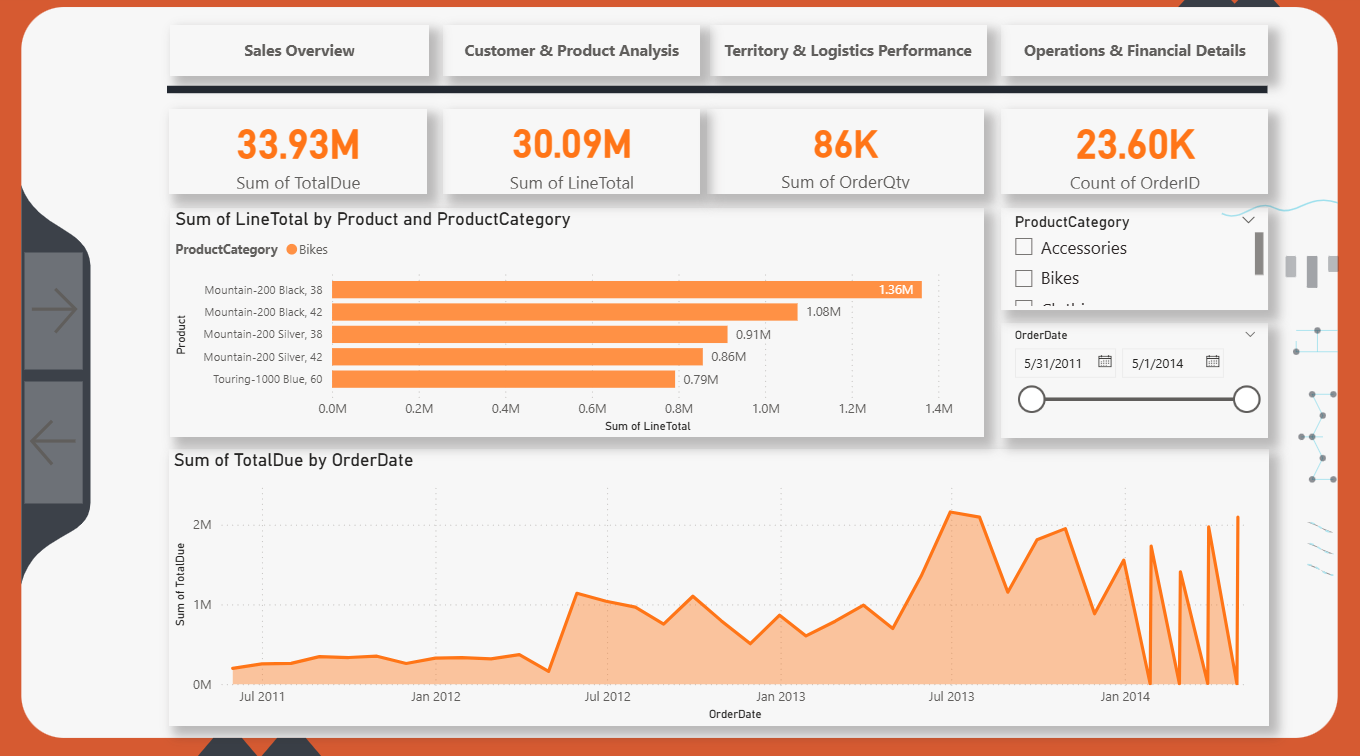

The dashboard page shown, as its layout file describes it:
{"tool":"powerbi","page":{"name":"Sales Overview","canvas":[1280,720],"ordinal":0},"visuals":[{"type":"card","fields":{"Values":["Sum(Fact Sales.LineTotal)"]},"box":[417.7,108.1,241.9,80.6],"z":0},{"type":"card","fields":{"Values":["Sum(Fact Sales.TotalDue)"]},"box":[159.7,108.1,243.5,80.6],"z":1000},{"type":"card","fields":{"Values":["Sum(Fact Sales.OrderQty)"]},"box":[666.1,108.1,259.7,80.6],"z":2000},{"type":"card","fields":{"Values":["CountNonNull(Fact Sales.OrderID)"]},"box":[941.9,108.1,251.6,80.6],"z":3000},{"type":"lineChart","fields":{"Category":["Fact Sales.OrderDate"],"Y":["Sum(Fact Sales.TotalDue)"]},"box":[159.7,429,1033.9,259.7],"z":4000},{"type":"clusteredBarChart","fields":{"Series":["DimProducts.ProductCategory"],"Category":["DimProducts.Product"],"Y":["Sum(Fact Sales.LineTotal)"]},"box":[161.3,201.6,764.5,216.1],"z":5000},{"type":"slicer","fields":{"Values":["Fact Sales.ProductCategory"]},"box":[941.9,201.6,251.6,96.8],"z":6000},{"type":"slicer","fields":{"Values":["Fact Sales.OrderDate"]},"box":[941.9,309.7,251.6,108.1],"z":7000},{"type":"actionButton","box":[161.3,29,243.5,48.4],"z":8000},{"type":"actionButton","box":[417.7,29,241.9,48.4],"z":9000},{"type":"actionButton","box":[667.7,29,259.7,48.4],"z":10000},{"type":"actionButton","box":[941.9,29,251.6,48.4],"z":11000},{"type":"actionButton","box":[24.2,243.5,54.8,109.7],"z":12000},{"type":"actionButton","box":[24.2,364.5,54.8,114.5],"z":13000}]}

Visuals, with their boxes on the page's 1280x720 design canvas (x1, y1, x2, y2). These are canvas units, not pixel positions in the 1360x756 screenshot, which may show the page scaled, cropped or inside an application window:
card - Sum(Fact Sales.LineTotal): [x1=418, y1=108, x2=660, y2=189]
card - Sum(Fact Sales.TotalDue): [x1=160, y1=108, x2=403, y2=189]
card - Sum(Fact Sales.OrderQty): [x1=666, y1=108, x2=926, y2=189]
card - CountNonNull(Fact Sales.OrderID): [x1=942, y1=108, x2=1194, y2=189]
lineChart - Fact Sales.OrderDate x Sum(Fact Sales.TotalDue): [x1=160, y1=429, x2=1194, y2=689]
clusteredBarChart - DimProducts.ProductCategory x DimProducts.Product: [x1=161, y1=202, x2=926, y2=418]
slicer - Fact Sales.ProductCategory: [x1=942, y1=202, x2=1194, y2=298]
slicer - Fact Sales.OrderDate: [x1=942, y1=310, x2=1194, y2=418]
actionButton: [x1=161, y1=29, x2=405, y2=77]
actionButton: [x1=418, y1=29, x2=660, y2=77]
actionButton: [x1=668, y1=29, x2=927, y2=77]
actionButton: [x1=942, y1=29, x2=1194, y2=77]
actionButton: [x1=24, y1=244, x2=79, y2=353]
actionButton: [x1=24, y1=364, x2=79, y2=479]
